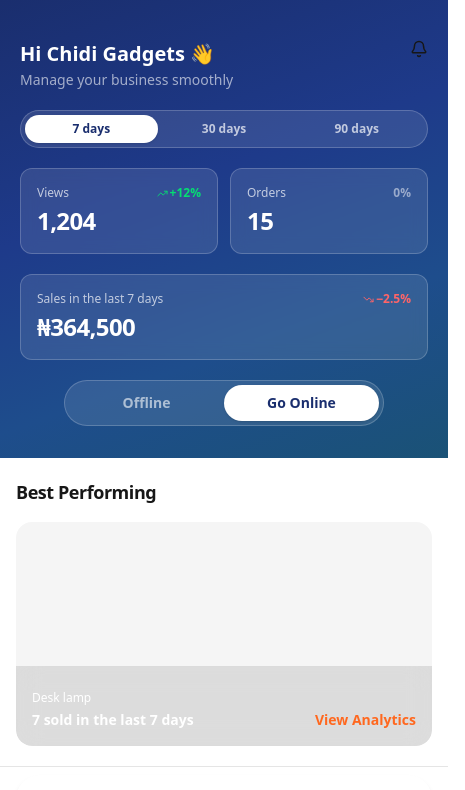
Test case: Seller dashboard › shows the real numbers for the chosen range and the best seller
Check: the text "1,204" is shown, box [37, 204, 96, 237]
Check: the text "15" is shown, box [247, 204, 273, 237]
Click the button "90 days".
click(357, 129)  # box [290, 115, 423, 143]
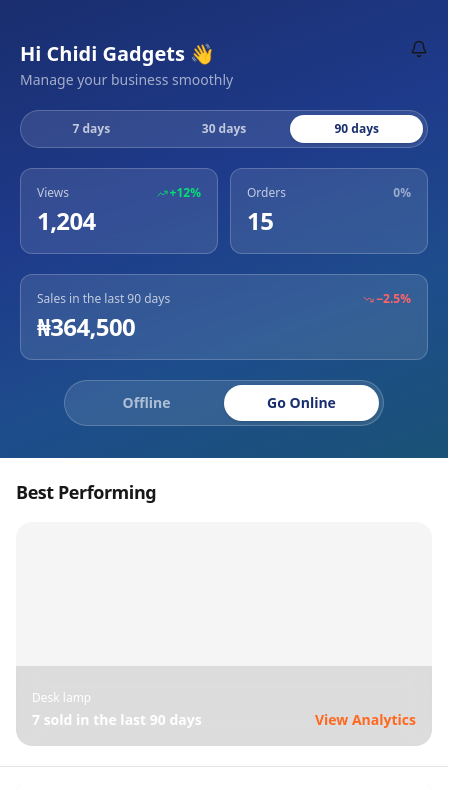
Check: the text "Sales in the last 90 days" is shown, box [37, 291, 170, 307]
